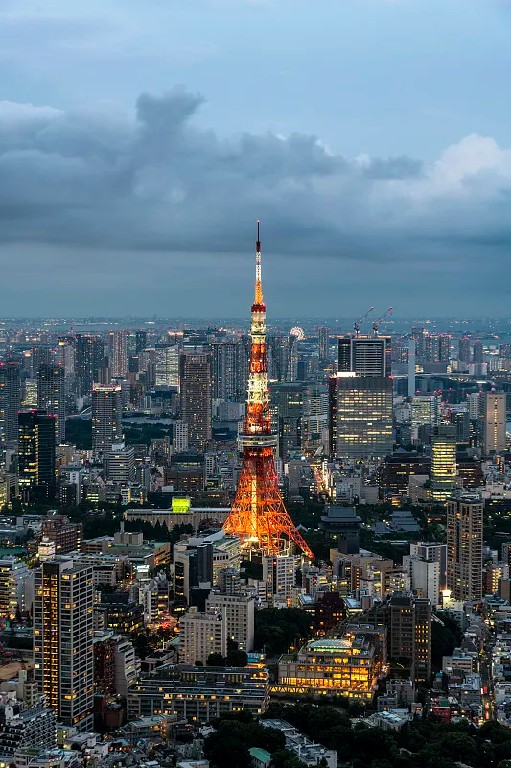Tokyo: (218, 218, 315, 563)
